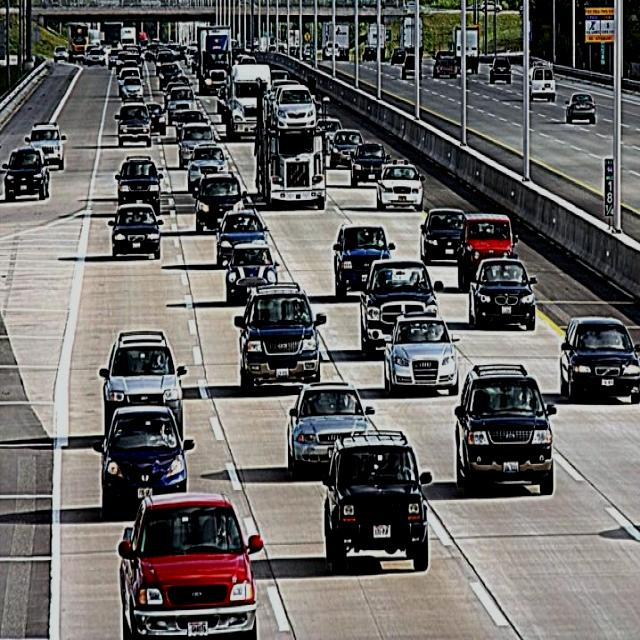Caminhao: (260, 81, 328, 211)
Carro Azul Escuro: (94, 404, 190, 515), (335, 229, 394, 294), (211, 208, 272, 264), (228, 245, 278, 299)
Carro Branco: (374, 164, 428, 210)
Carro Prata: (279, 380, 376, 470), (100, 329, 187, 427), (378, 313, 460, 393), (562, 92, 600, 126)
Carro Preto: (319, 431, 435, 582), (456, 364, 559, 505), (238, 288, 325, 388), (559, 304, 640, 401), (359, 260, 438, 358), (466, 255, 534, 332), (190, 169, 246, 226), (109, 208, 164, 261), (4, 148, 53, 206), (421, 209, 472, 262), (114, 158, 163, 208)
Carro Vermelho: (115, 491, 263, 640), (457, 208, 520, 286)
Van Branca: (524, 68, 560, 104)
